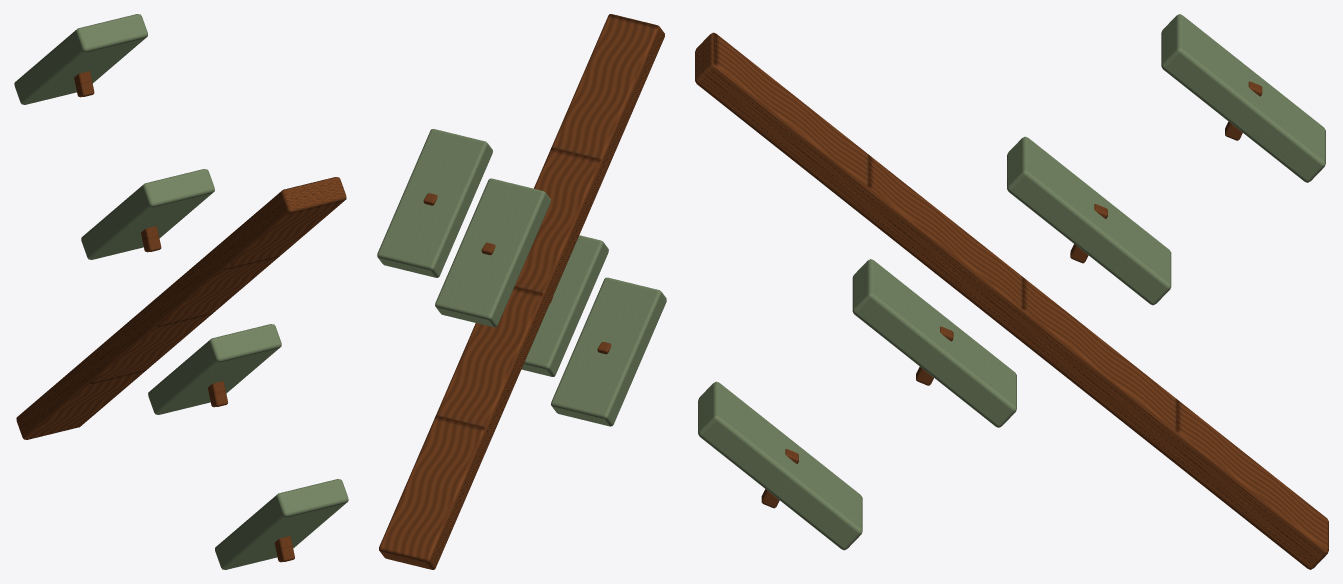
Rendered from viking-age-longhouse-and-longship-turf-roof-hip-cap-b1776204__30171.glb.
The picture shows the model from 3 angles, left to right: view 1: azimuth 30°, elevation 25°; view 2: azimuth 150°, elevation 25°; view 3: azimuth 270°, elevation 25°; orthographic projection. The views are drawn at different scales.
Visible parts, largest first — view 1: turf-roof-hip-cap; view 2: turf-roof-hip-cap; view 3: turf-roof-hip-cap.
Part boxes in pixels (box(x1,y1,x2,y2)): turf-roof-hip-cap: box(14, 14, 348, 569); turf-roof-hip-cap: box(377, 14, 666, 569); turf-roof-hip-cap: box(695, 14, 1328, 569).
Size of the model in its own units: 0.3778 by 2.48 by 2.72.
Materials: 2 (2 with a texture image).
